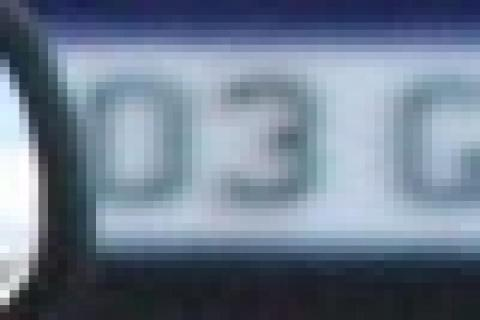LicensePlate: (31, 33, 480, 275)
